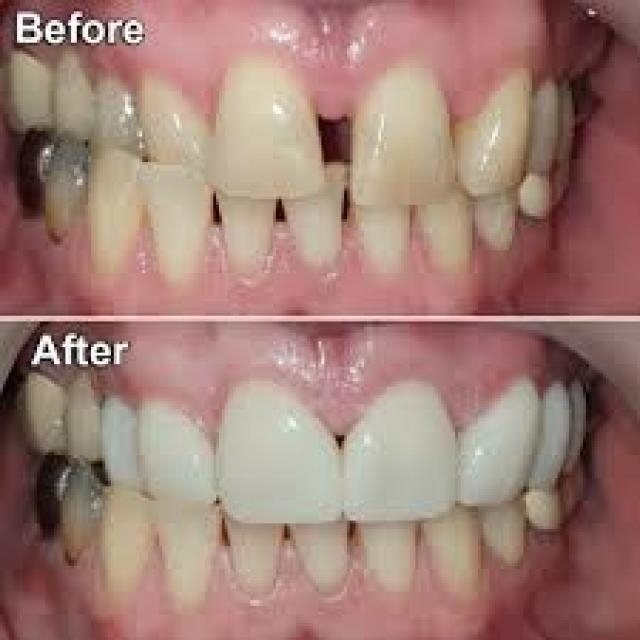tooth: (208, 378, 341, 529), (213, 54, 327, 193), (341, 384, 455, 521), (353, 57, 455, 202), (452, 57, 532, 185), (464, 367, 532, 503), (136, 389, 214, 504), (131, 71, 213, 168), (415, 495, 492, 597), (100, 484, 162, 608), (145, 162, 211, 273), (216, 503, 287, 603), (159, 498, 225, 603), (538, 373, 594, 492), (290, 498, 356, 597), (94, 145, 145, 267), (353, 498, 418, 592), (94, 381, 145, 481), (296, 168, 341, 267), (222, 185, 273, 270), (51, 51, 91, 137)
